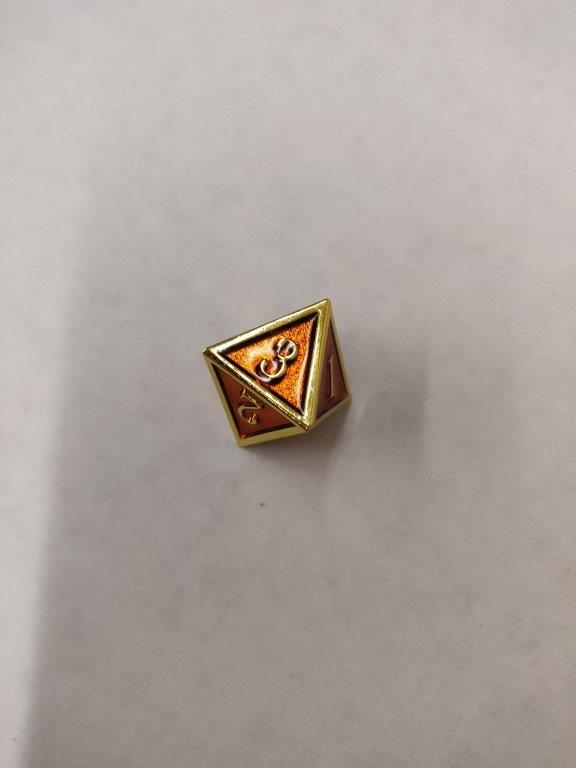d8-3: (201, 296, 353, 452)
